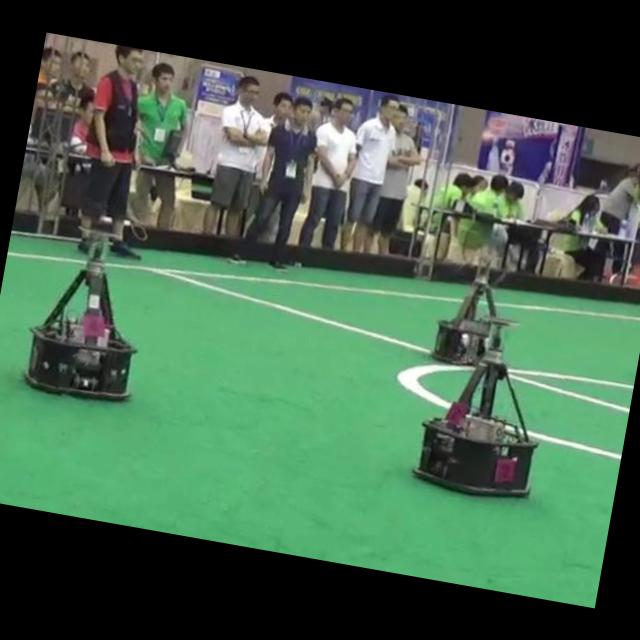robot: (413, 315, 537, 494), (24, 233, 136, 400), (432, 259, 496, 364)
